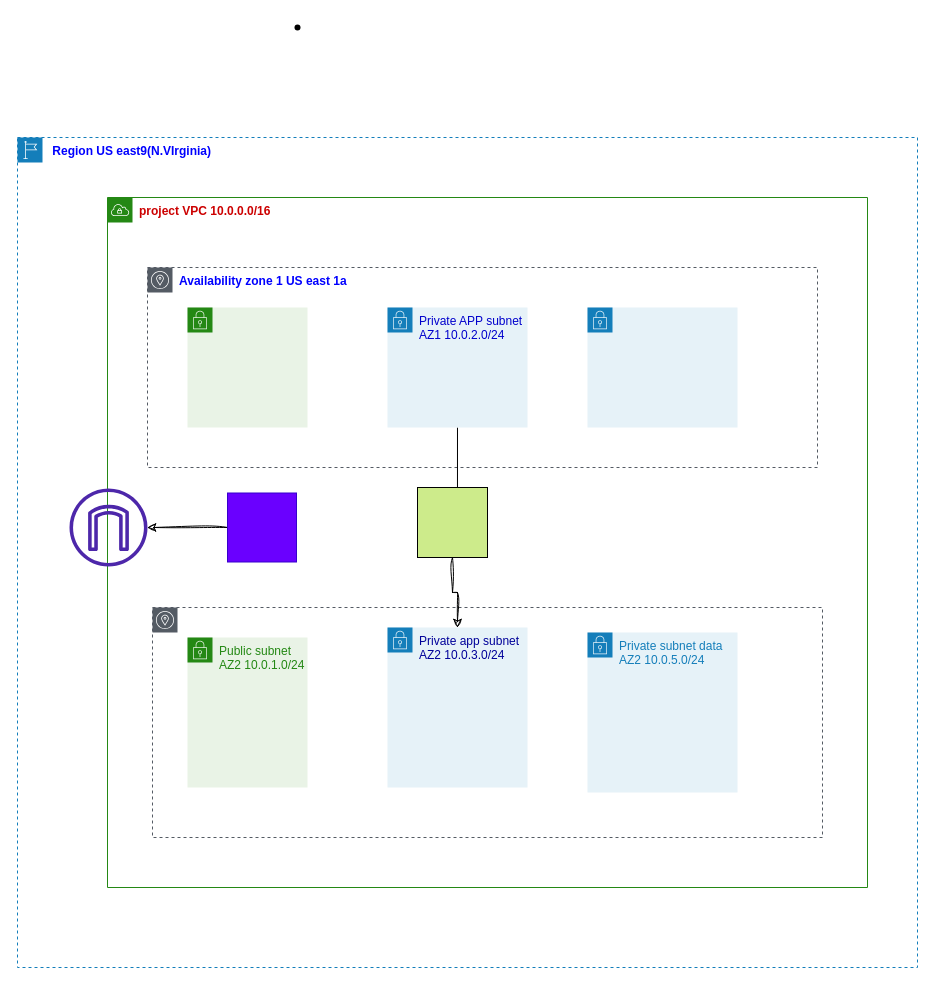
Image size: 935x985. Some labels were removed from this diagram. The shapes that lost their labels are listed below. From the top down, each one's box as (x1, y1, x2, y2) in pixels, then its label:
(186, 306, 308, 428): public subnet AZ1 10.0.0.0/24
(586, 306, 738, 428): Pirivate data subnet AZ1 10.0.4.0/24
(152, 606, 822, 838): Availability zone 2 US 1b
